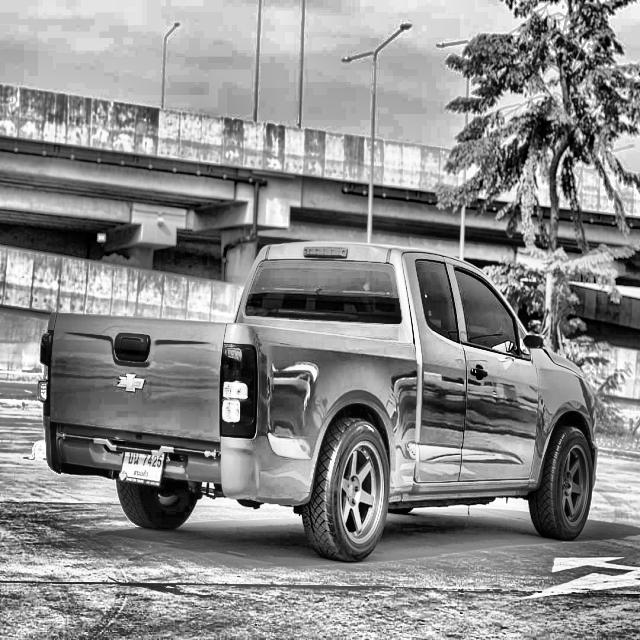license-plate: (118, 445, 166, 493)
